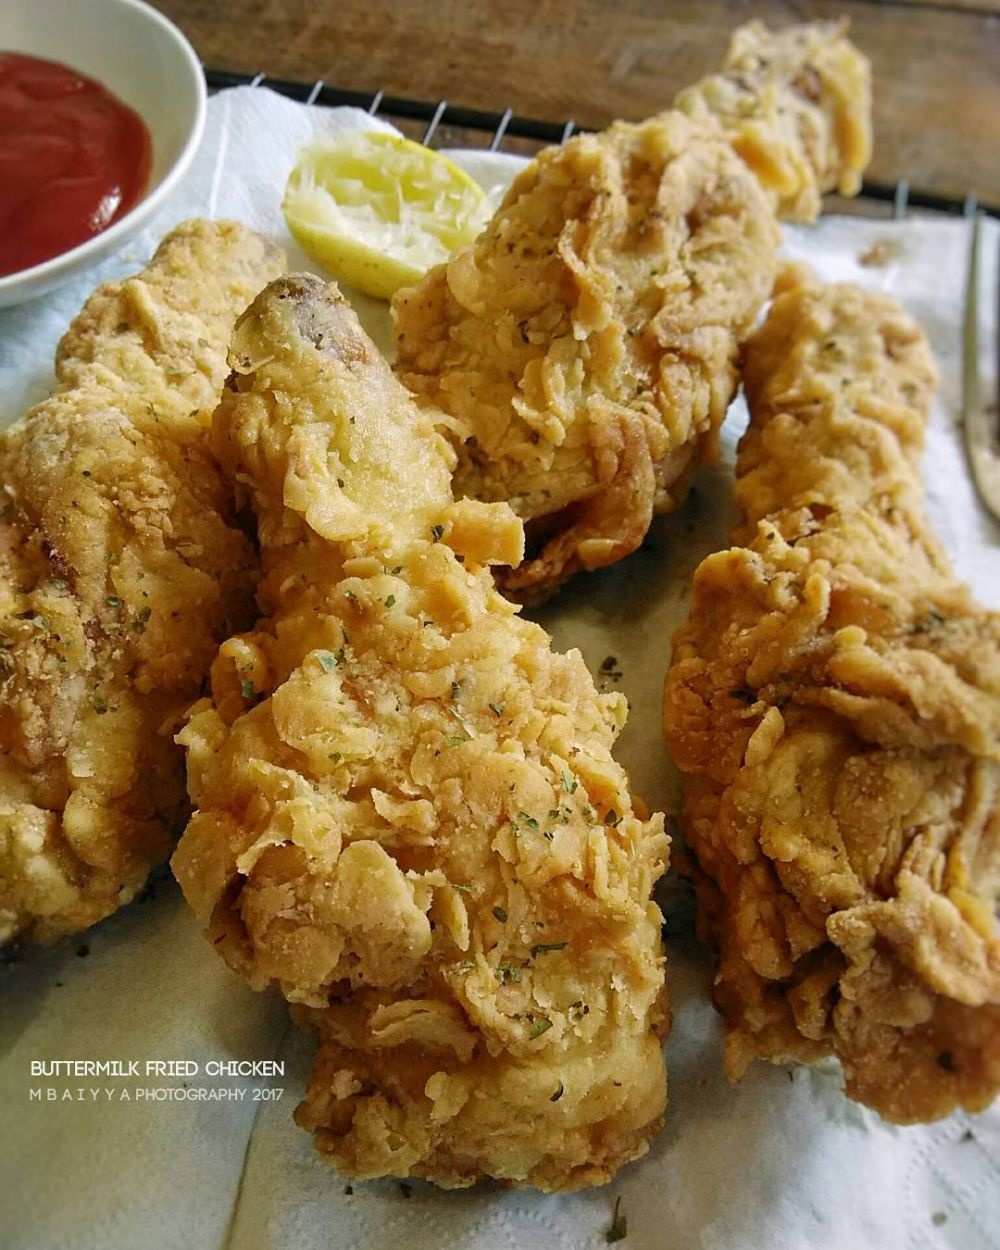ayam_goreng: (159, 267, 677, 1216), (654, 253, 1000, 1134)
